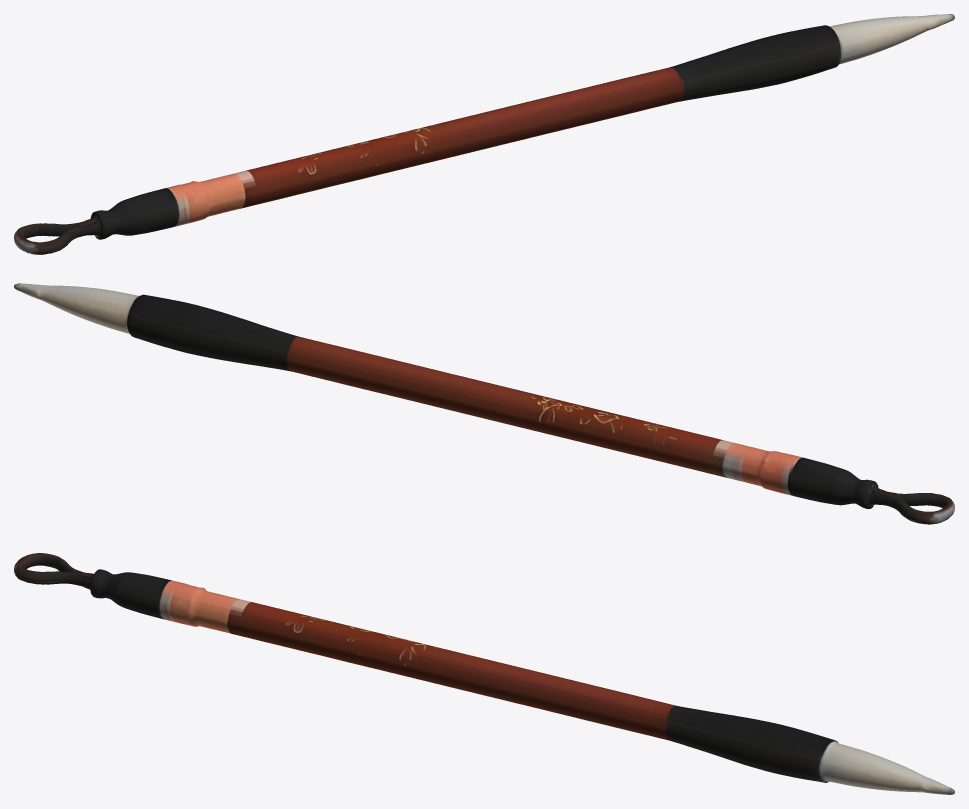
The model's file is maobi.glb.
3 renders of one model, top to bottom at view 1: azimuth 30°, elevation 25°; view 2: azimuth 150°, elevation 25°; view 3: azimuth 330°, elevation 25°, orthographic.
Visible parts, largest first — view 1: tripo_node_b270e404-5b87-4ae2-96c7-0d3be0ed6bd8; view 2: tripo_node_b270e404-5b87-4ae2-96c7-0d3be0ed6bd8; view 3: tripo_node_b270e404-5b87-4ae2-96c7-0d3be0ed6bd8.
Boxes of the visible parts, <box> form: tripo_node_b270e404-5b87-4ae2-96c7-0d3be0ed6bd8: <box>14,14,954,254</box>; tripo_node_b270e404-5b87-4ae2-96c7-0d3be0ed6bd8: <box>14,283,954,524</box>; tripo_node_b270e404-5b87-4ae2-96c7-0d3be0ed6bd8: <box>14,553,954,794</box>.
Bounding box in the file's own units: 0.9999 × 0.0459 × 0.0499.
1 material, 1 textured.
